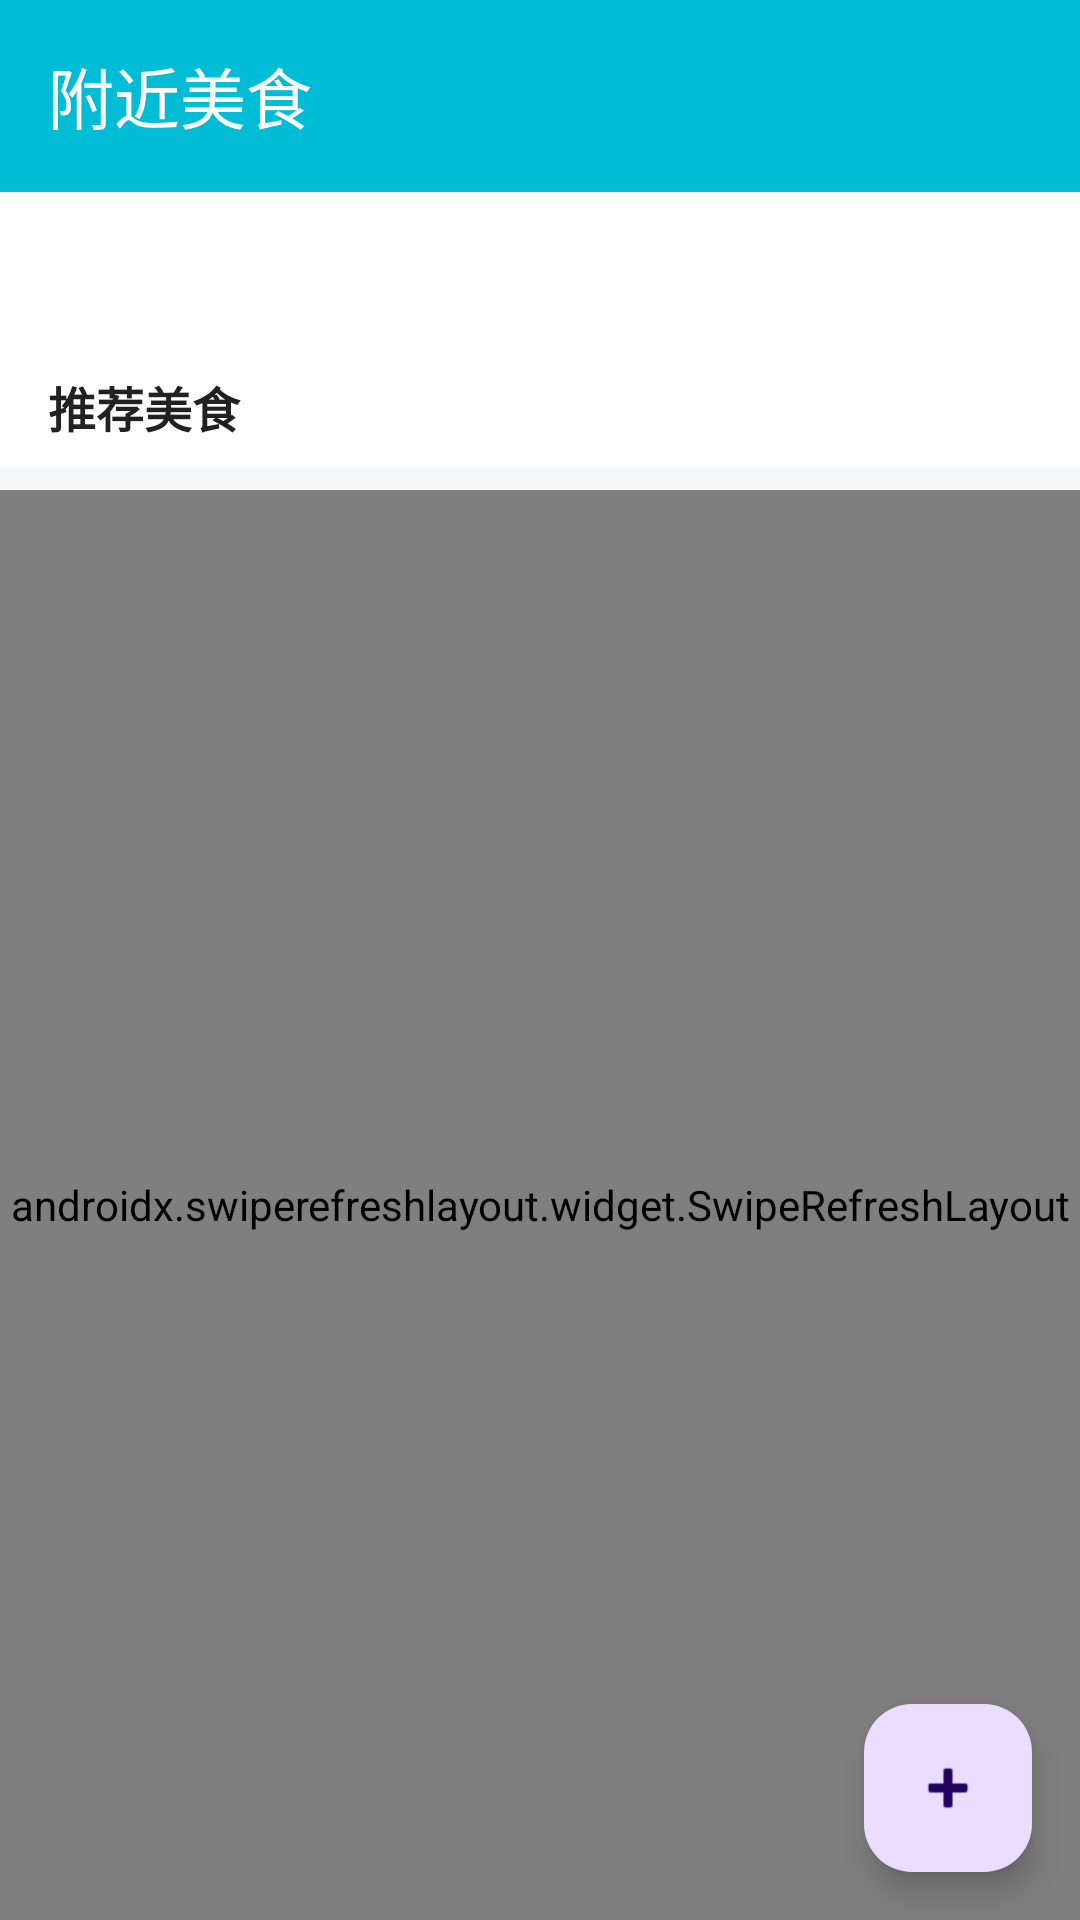

Named icons in this screenshot (1080px x 1920px) and their centers, point (x, y):
添加店铺: point (948, 1788)
